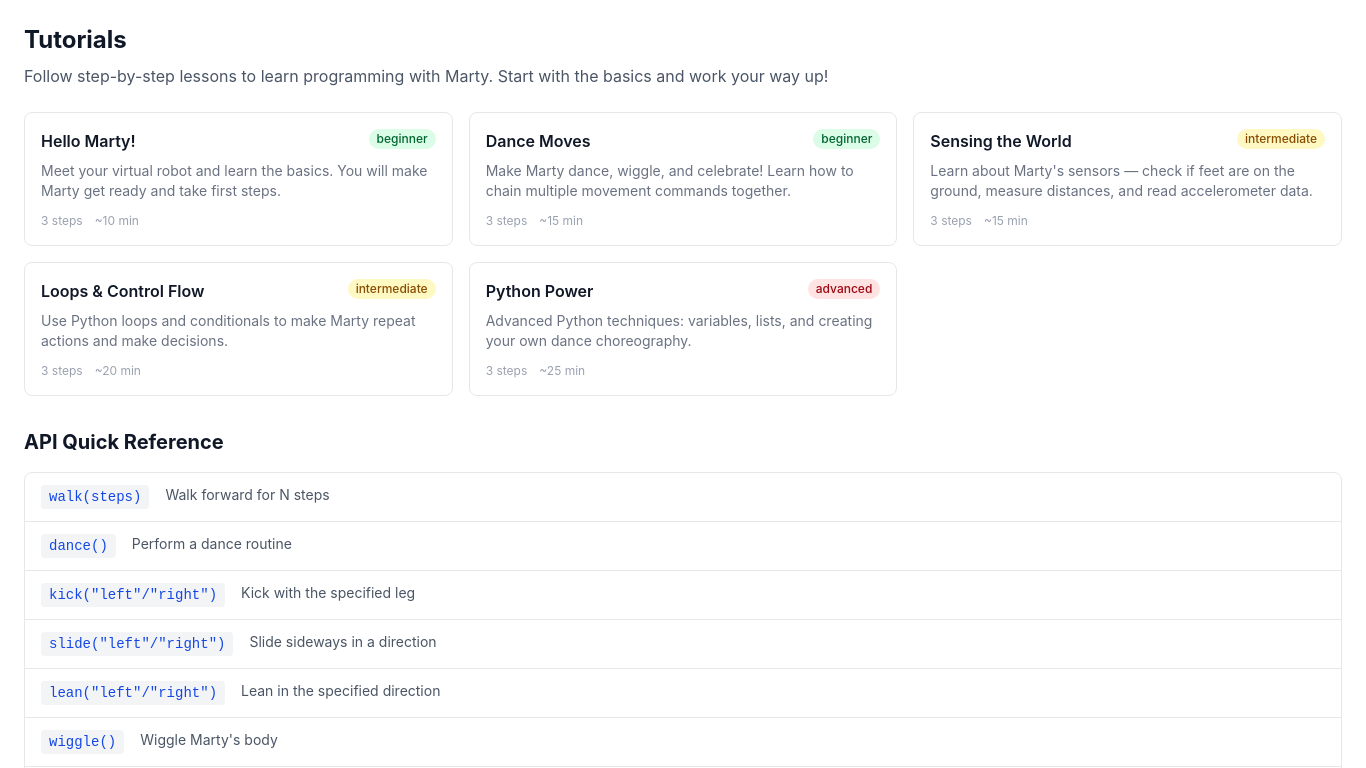
Test: TutorialsPage › opens a tutorial when its card is clicked, then closes it via Back
Click the button "Hello Marty" at (238, 179), box x1=24 y1=112 x2=453 y2=246
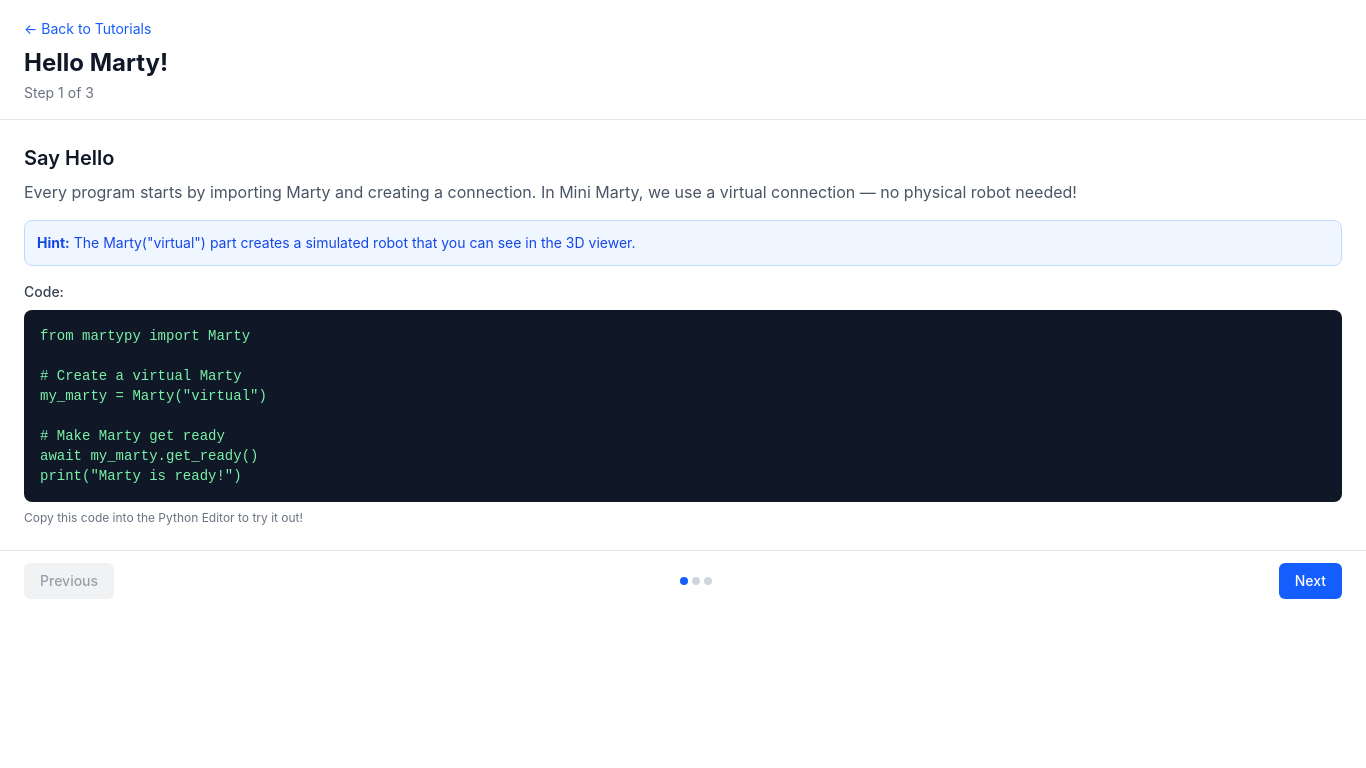
Expected: the button "← Back to Tutorials" is shown
Click the button "← Back to Tutorials" at (88, 29), box x1=24 y1=19 x2=151 y2=39
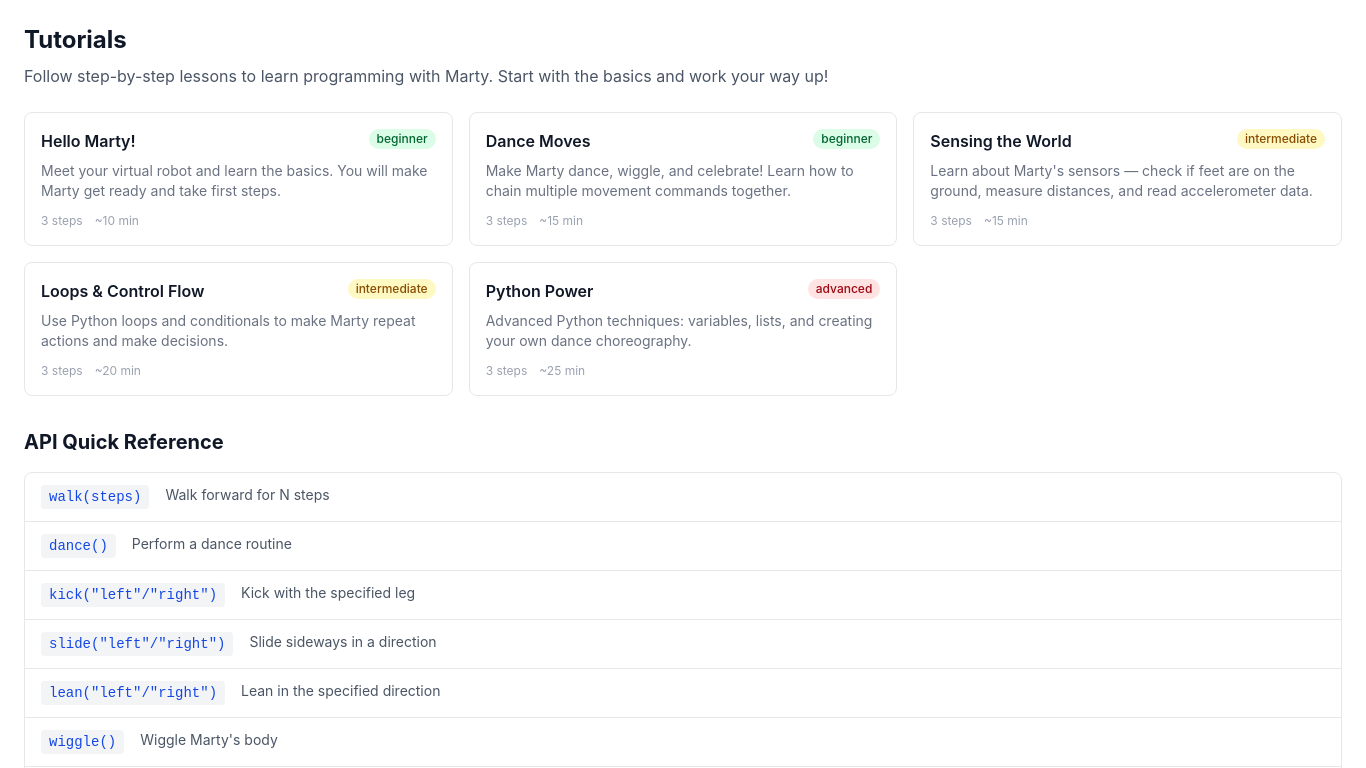
Expected: the heading "Tutorials" is shown, x1=24 y1=25 x2=127 y2=54
